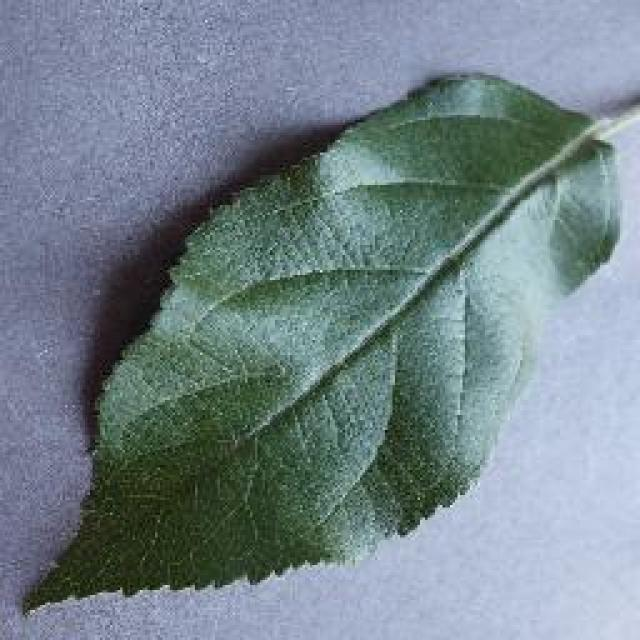apple healthy: (20, 65, 628, 617)
